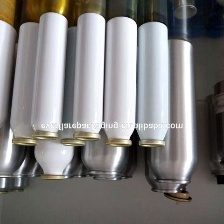aerosol_cans: (144, 35, 199, 186), (77, 40, 135, 179), (31, 39, 77, 183), (7, 19, 56, 148), (98, 13, 143, 149), (27, 10, 69, 143), (132, 17, 173, 149), (68, 10, 108, 144)
